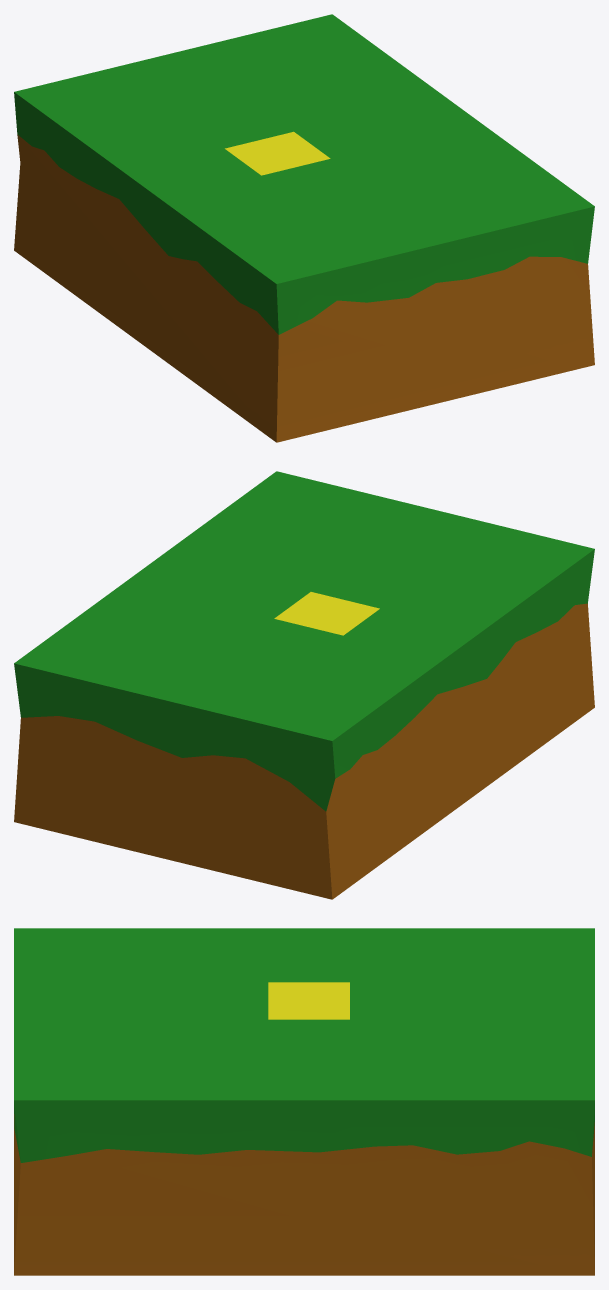
Rendered from PlatformMapa2Spawn.fbx.
3 renders of one model, top to bottom at view 1: azimuth 30°, elevation 25°; view 2: azimuth 150°, elevation 25°; view 3: azimuth 270°, elevation 25°, orthographic. The views are drawn at different scales.
Parts seen in each view (by area): view 1: Cube; view 2: Cube; view 3: Cube.
Part boxes in pixels (<box>): Cube: <box>14,14,594,442</box>; Cube: <box>14,471,594,899</box>; Cube: <box>14,928,594,1275</box>.
Size of the model in its own units: 2100 by 1000 by 3000.
